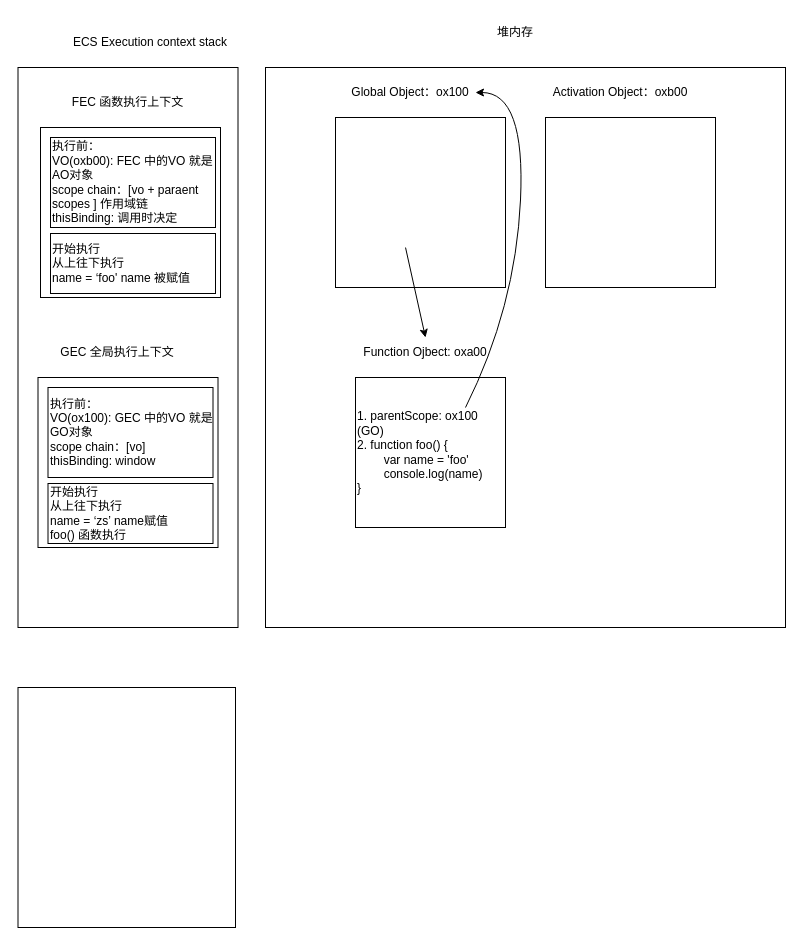
The diagram is 803 pixels wide and 945 high, and some of its shapes have lost their labels. The centre of each missing label's shape, as x and y in pixels:
{ Number String Array Function ... // 自定义变量 name: undefined foo: 0xa00 }: (x=420, y=202)
{ 形参； arguments; 定义的变量; name: undefined }: (x=630, y=202)
